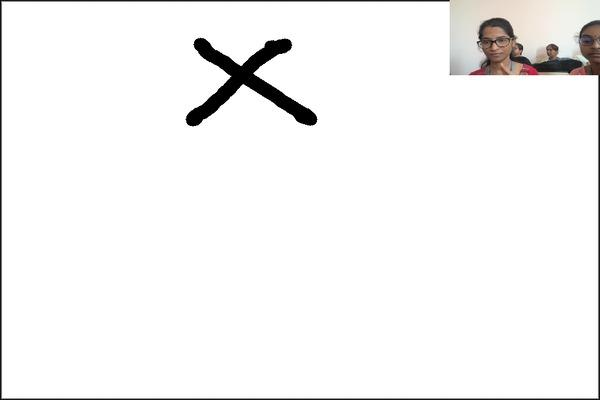X: (166, 28, 328, 158)
